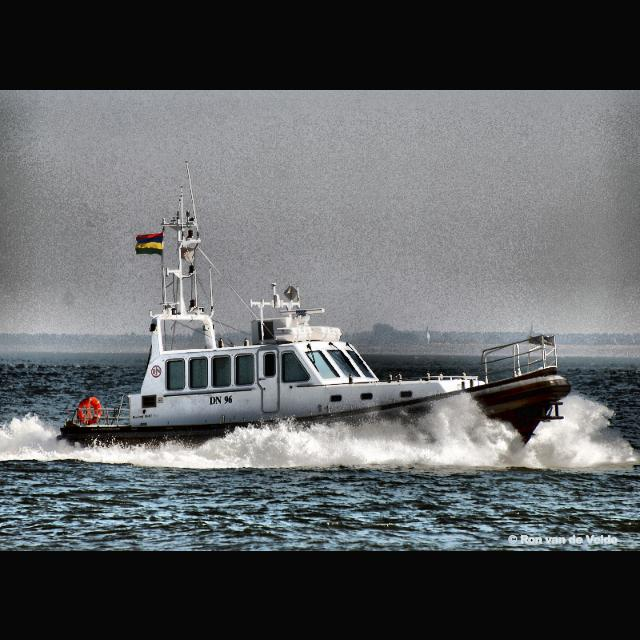patrol_vessel: (58, 208, 576, 472)
